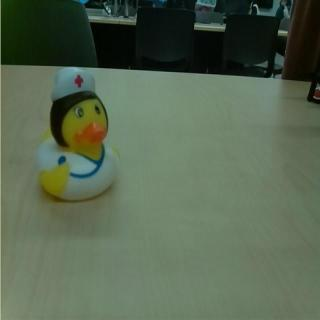duck_specialty: (36, 65, 122, 203)
